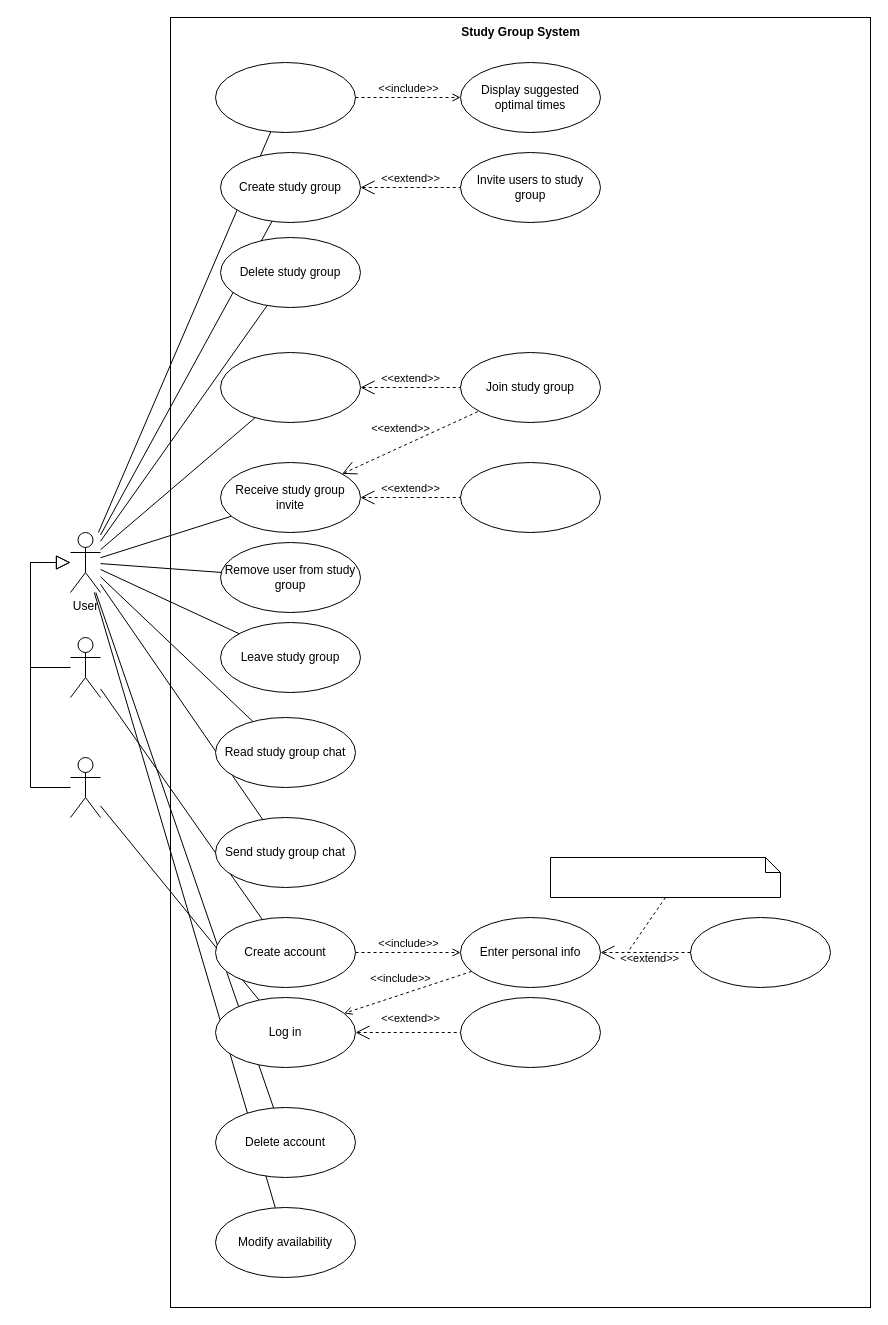
Some shapes in this 888 by 1325 pixel diagram are drawn without their labels. The shapes that lost their labels are listed below. From the top down, each one's box as (x1, y1, x2, y2) in pixels, then its label:
(214, 62, 356, 132): Schedule meeting
(220, 352, 360, 422): Search for study group
(460, 462, 600, 532): Decline study group invite
(70, 636, 100, 698): New User
(70, 756, 100, 818): Returning User
(550, 856, 780, 898): Condition: User attempts to create account without providing necessary info
(690, 916, 830, 988): Prompted to enter all information
(460, 996, 600, 1068): Display login error
